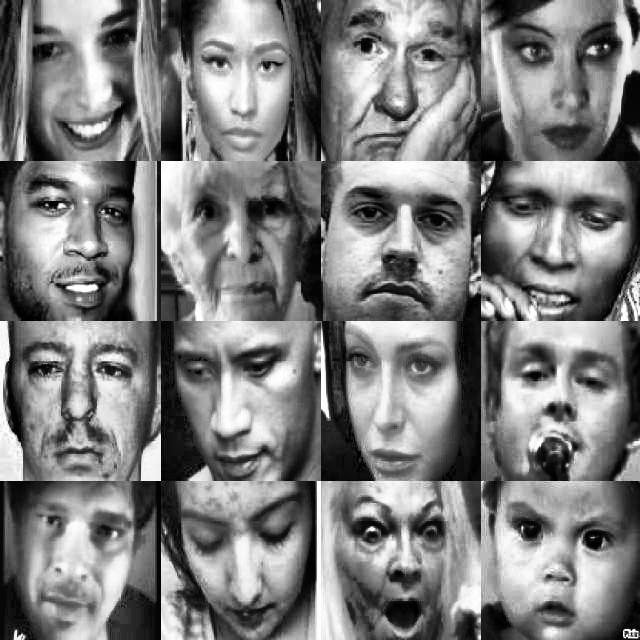angry: (484, 484, 640, 640), (328, 483, 471, 640), (183, 11, 299, 160), (15, 497, 135, 633)
fear: (330, 327, 461, 475)
happy: (487, 8, 629, 154), (10, 6, 144, 158), (175, 176, 301, 310), (20, 176, 137, 308)
neutral: (328, 12, 470, 161), (172, 324, 301, 480), (333, 177, 464, 317), (504, 335, 627, 463)
sad: (491, 164, 633, 315), (172, 489, 303, 640), (19, 333, 141, 470)
